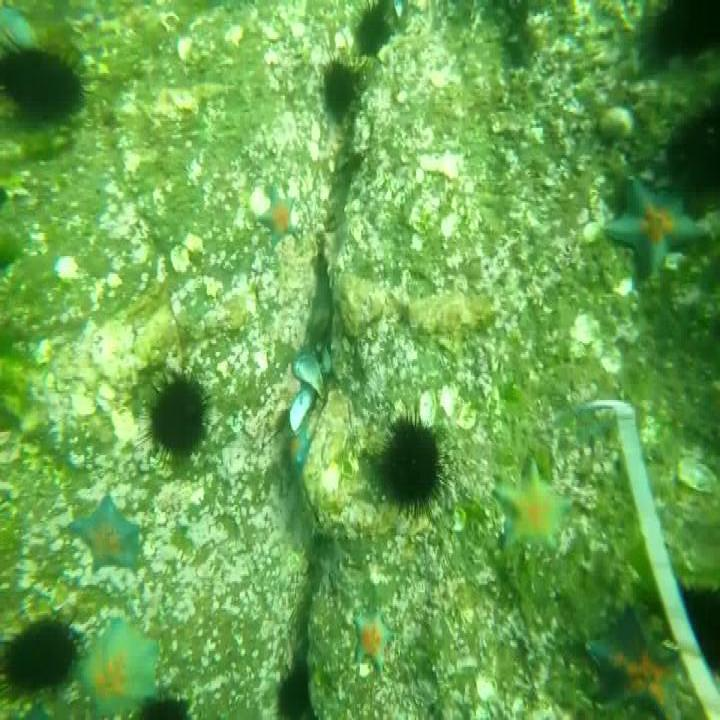echinus: (376, 411, 445, 519), (0, 37, 85, 121), (2, 608, 80, 693), (148, 364, 204, 464), (322, 46, 357, 112), (357, 1, 391, 52)
scallop: (677, 455, 716, 500), (291, 356, 330, 398), (291, 391, 319, 429), (572, 313, 601, 343), (419, 388, 439, 430), (439, 382, 458, 418), (597, 343, 622, 370)
starfish: (581, 599, 691, 720), (603, 170, 708, 282), (79, 615, 158, 720), (495, 464, 575, 562), (70, 502, 143, 566), (350, 599, 395, 677), (260, 185, 300, 245)
